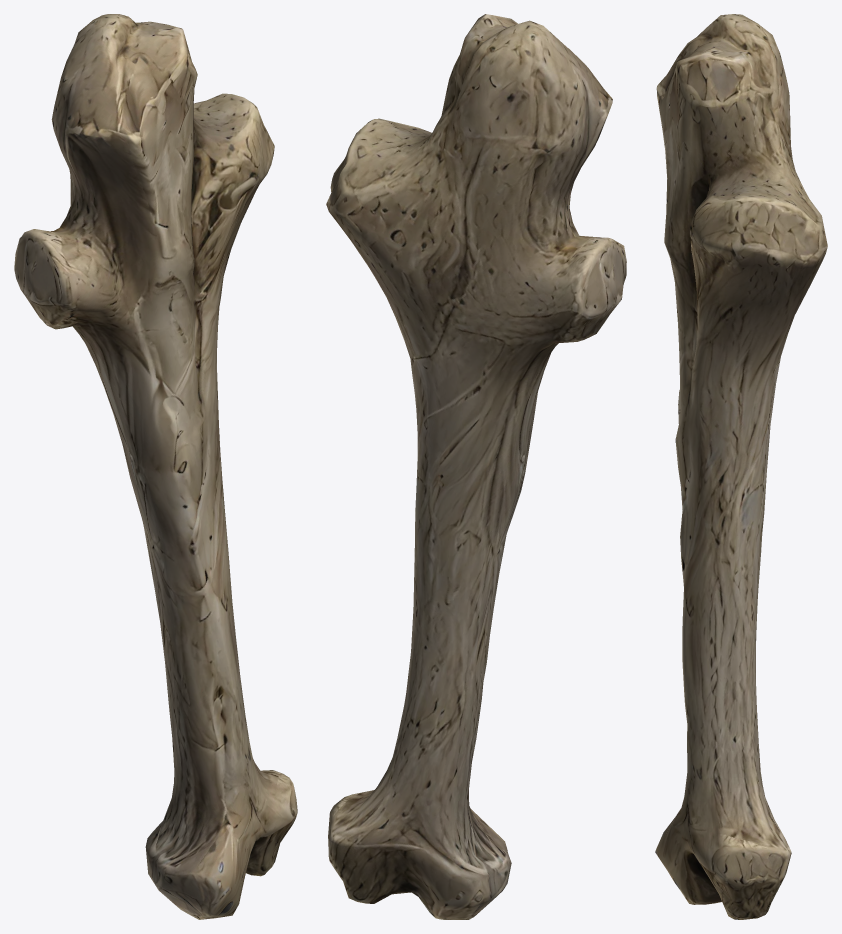
File: goblin_weapon.glb
3 renders of one model, left to right at view 1: azimuth 30°, elevation 25°; view 2: azimuth 150°, elevation 25°; view 3: azimuth 270°, elevation 25°, orthographic. The views are drawn at different scales.
Parts seen in each view (by area): view 1: tripo_node_81aa7a3a-8872-4267-91d1-21e82c03e02e; view 2: tripo_node_81aa7a3a-8872-4267-91d1-21e82c03e02e; view 3: tripo_node_81aa7a3a-8872-4267-91d1-21e82c03e02e.
Boxes of the visible parts, x1=… form: tripo_node_81aa7a3a-8872-4267-91d1-21e82c03e02e: x1=14, y1=14, x2=297, y2=919; tripo_node_81aa7a3a-8872-4267-91d1-21e82c03e02e: x1=326, y1=14, x2=626, y2=919; tripo_node_81aa7a3a-8872-4267-91d1-21e82c03e02e: x1=655, y1=14, x2=827, y2=919.
Bounding box in the file's own units: 0.3102 × 1 × 0.1846.
Materials: 1 (1 with a texture image).
